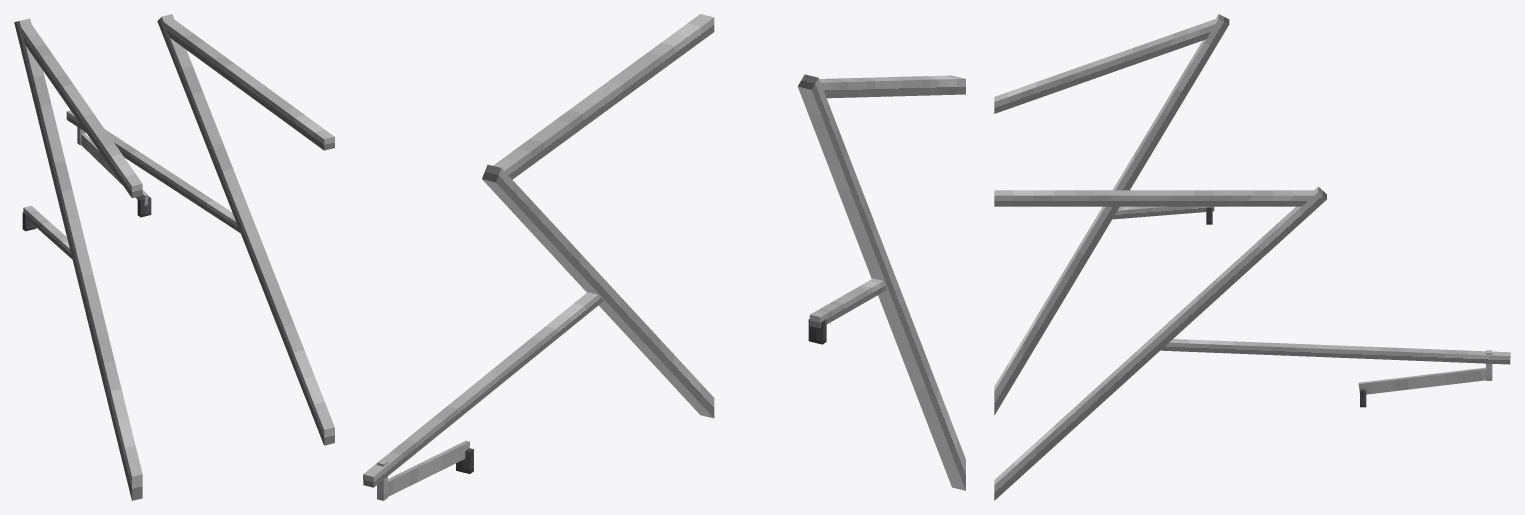
The model's file is cantilever_outer_12px.obj.
The picture shows the model from 3 angles, left to right: view 1: azimuth 30°, elevation 25°; view 2: azimuth 150°, elevation 25°; view 3: azimuth 270°, elevation 25°; orthographic projection. The views are drawn at different scales.
Parts seen in each view (by area): view 1: 94cf9319-567a-48b8-ae30-b94a5ec60b8b, ed860919-5d40-43ad-8135-ba209481f3de, f99c6bf5-5661-407f-8459-5841fd8016e9, 5daa0cfc-914a-4f0f-844d-8e816010cf83, 5179f677-5c50-45b3-9507-c37d9810a1fa, a14db73d-83d0-4b88-9f68-81013ade08fd, f364f61c-6863-4945-b8b4-a6aac9cc227b; view 2: 94cf9319-567a-48b8-ae30-b94a5ec60b8b, ed860919-5d40-43ad-8135-ba209481f3de, f99c6bf5-5661-407f-8459-5841fd8016e9, 5179f677-5c50-45b3-9507-c37d9810a1fa, 5daa0cfc-914a-4f0f-844d-8e816010cf83, f364f61c-6863-4945-b8b4-a6aac9cc227b, a14db73d-83d0-4b88-9f68-81013ade08fd; view 3: ed860919-5d40-43ad-8135-ba209481f3de, 94cf9319-567a-48b8-ae30-b94a5ec60b8b, f99c6bf5-5661-407f-8459-5841fd8016e9, 5179f677-5c50-45b3-9507-c37d9810a1fa, 5daa0cfc-914a-4f0f-844d-8e816010cf83, f364f61c-6863-4945-b8b4-a6aac9cc227b, a14db73d-83d0-4b88-9f68-81013ade08fd.
Boxes of the visible parts, <box> form: 94cf9319-567a-48b8-ae30-b94a5ec60b8b: <box>14,18,142,500</box>; ed860919-5d40-43ad-8135-ba209481f3de: <box>157,14,334,445</box>; f99c6bf5-5661-407f-8459-5841fd8016e9: <box>164,19,334,150</box>; 5daa0cfc-914a-4f0f-844d-8e816010cf83: <box>21,24,142,198</box>; 5179f677-5c50-45b3-9507-c37d9810a1fa: <box>66,110,240,232</box>; a14db73d-83d0-4b88-9f68-81013ade08fd: <box>23,205,72,259</box>; f364f61c-6863-4945-b8b4-a6aac9cc227b: <box>81,133,148,205</box>; 94cf9319-567a-48b8-ae30-b94a5ec60b8b: <box>797,74,965,490</box>; ed860919-5d40-43ad-8135-ba209481f3de: <box>482,164,714,418</box>; f99c6bf5-5661-407f-8459-5841fd8016e9: <box>493,14,714,179</box>; 5179f677-5c50-45b3-9507-c37d9810a1fa: <box>363,292,603,487</box>; 5daa0cfc-914a-4f0f-844d-8e816010cf83: <box>819,75,965,98</box>; f364f61c-6863-4945-b8b4-a6aac9cc227b: <box>388,440,469,496</box>; a14db73d-83d0-4b88-9f68-81013ade08fd: <box>809,278,886,328</box>; ed860919-5d40-43ad-8135-ba209481f3de: <box>994,186,1326,500</box>; 94cf9319-567a-48b8-ae30-b94a5ec60b8b: <box>994,14,1229,415</box>; f99c6bf5-5661-407f-8459-5841fd8016e9: <box>994,190,1313,206</box>; 5179f677-5c50-45b3-9507-c37d9810a1fa: <box>1160,339,1510,364</box>; 5daa0cfc-914a-4f0f-844d-8e816010cf83: <box>994,19,1215,113</box>; f364f61c-6863-4945-b8b4-a6aac9cc227b: <box>1358,367,1485,394</box>; a14db73d-83d0-4b88-9f68-81013ade08fd: <box>1112,206,1214,219</box>.
Size of the model in its own units: 1.19 by 2.23 by 2.62.
